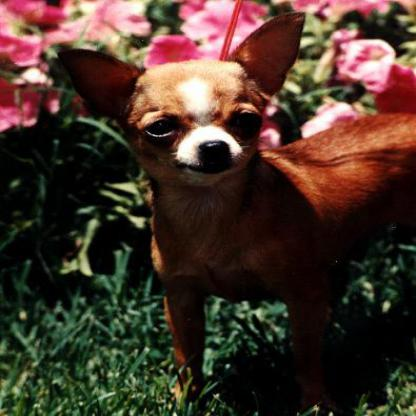dog: (60, 8, 415, 400)
